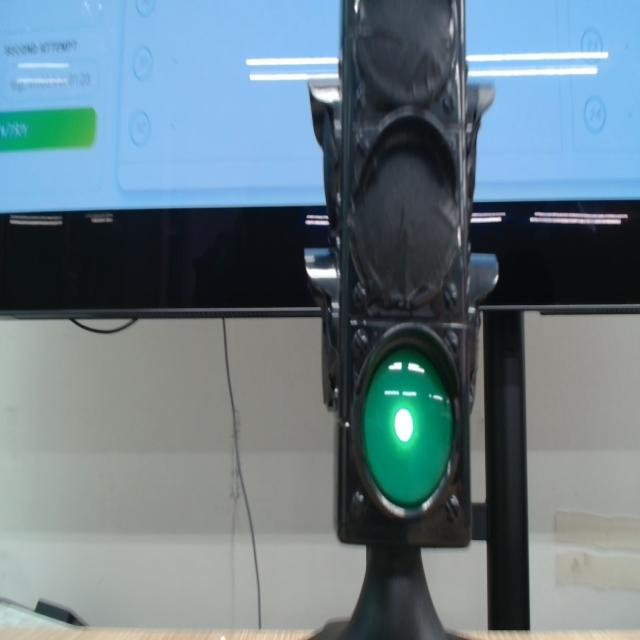green_light: (362, 348, 453, 508), (395, 409, 413, 442)
